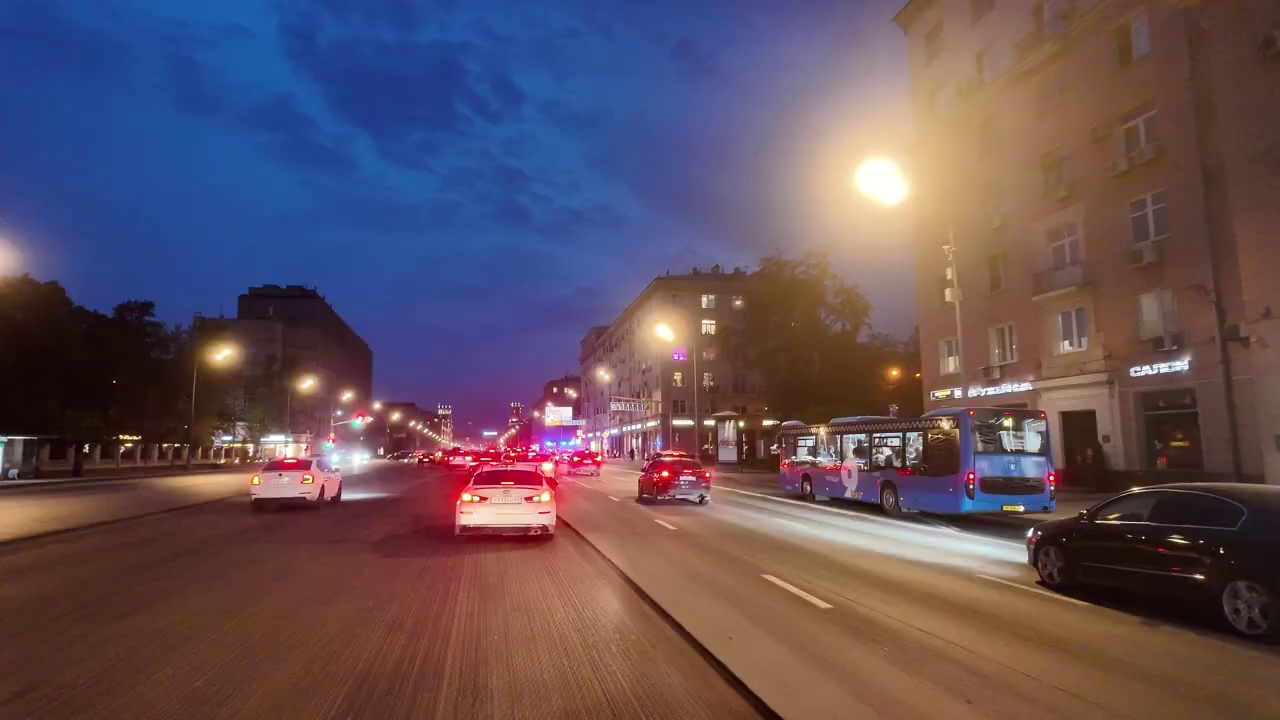acesa: (846, 152, 913, 214), (643, 312, 685, 353), (202, 339, 241, 373), (291, 371, 320, 398), (0, 240, 11, 290)
